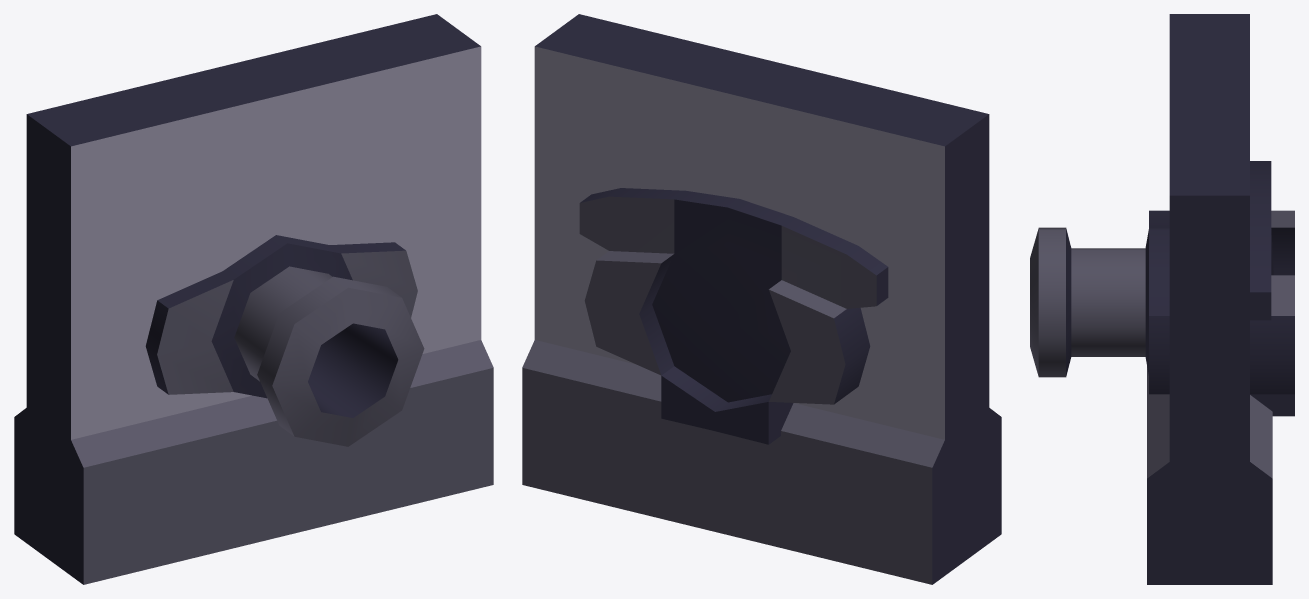
File: WallPipeEnd.fbx
3 renders of one model, left to right at view 1: azimuth 30°, elevation 25°; view 2: azimuth 150°, elevation 25°; view 3: azimuth 270°, elevation 25°, orthographic. The views are drawn at different scales.
Parts seen in each view (by area): view 1: WallPipeEnd; view 2: WallPipeEnd; view 3: WallPipeEnd.
Boxes of the visible parts, x1=… form: WallPipeEnd: x1=14, y1=14, x2=493, y2=584; WallPipeEnd: x1=522, y1=14, x2=1001, y2=584; WallPipeEnd: x1=1030, y1=14, x2=1294, y2=584.
Bounding box in the file's own units: 100 × 100 × 61.65.
